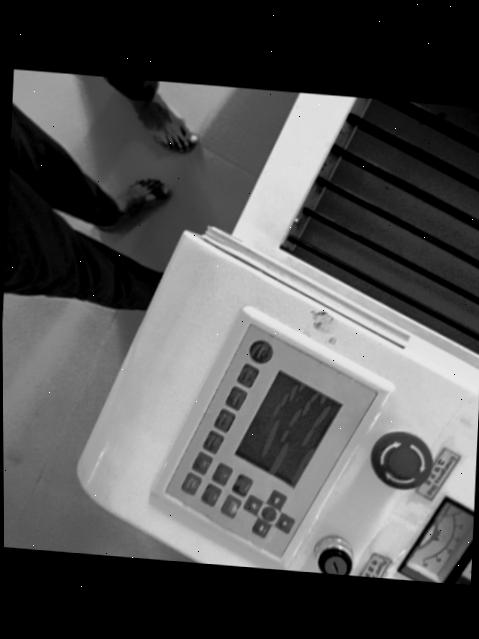Amp_Meter: (398, 498, 474, 584)
Display: (234, 371, 340, 485)
Down_button: (243, 495, 261, 514)
Emergency_Stop: (370, 431, 432, 489)
Enter_button: (220, 495, 240, 517)
Esc_button: (231, 475, 251, 496)
File_button: (191, 452, 211, 473)
Frame_button: (200, 484, 220, 505)
Left_button: (266, 491, 285, 509)
Max-Power_button: (202, 431, 222, 452)
Min-Power_button: (213, 409, 234, 431)
Origin_button: (211, 464, 231, 484)
Power_switch: (317, 546, 351, 575)
Pulse_button: (236, 364, 257, 387)
Reset_button: (248, 340, 271, 362)
Right_button: (251, 519, 269, 537)
Speed_button: (225, 386, 245, 409)
Start-Pause_button: (180, 473, 200, 494)
Up_button: (274, 514, 293, 532)
Z_U_button: (260, 507, 276, 521)
